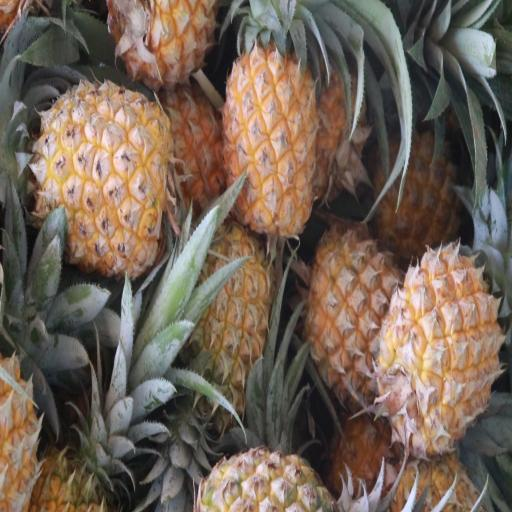------------------------------: (303, 232, 400, 398)
Pineapple - v8 v1: (40, 82, 167, 267), (384, 249, 498, 448), (224, 44, 317, 236), (188, 232, 270, 408), (375, 129, 462, 261), (111, 0, 214, 87)
